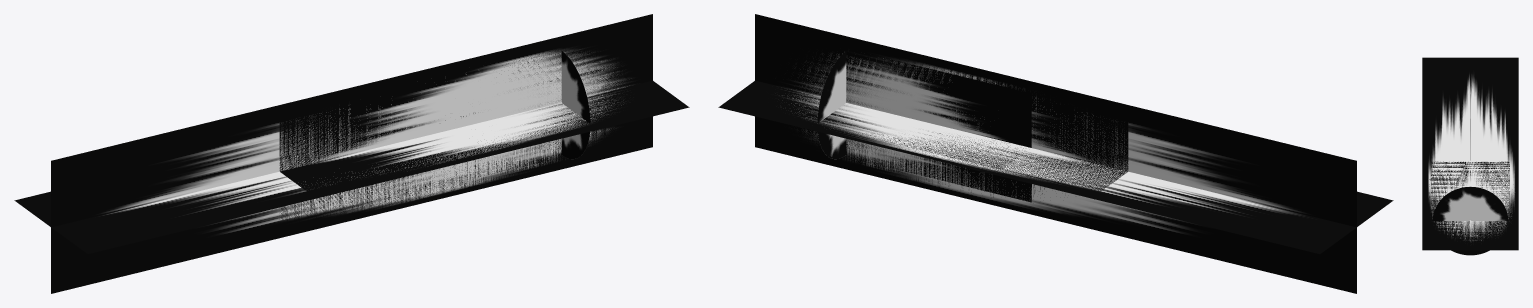
The model's file is Akaza_Fist6.fbx.
3 renders of one model, left to right at view 1: azimuth 30°, elevation 25°; view 2: azimuth 150°, elevation 25°; view 3: azimuth 270°, elevation 25°, orthographic. The views are drawn at different scales.
Parts seen in each view (by area): view 1: SM_e_Plc_P1012_Fist006; view 2: SM_e_Plc_P1012_Fist006; view 3: SM_e_Plc_P1012_Fist006.
Part boxes in pixels (x1,y1,x2,y2): SM_e_Plc_P1012_Fist006: (14,14,689,293); SM_e_Plc_P1012_Fist006: (718,14,1393,293); SM_e_Plc_P1012_Fist006: (1422,57,1518,255).
Size of the model in its own units: 218 by 46.03 by 46.03.
